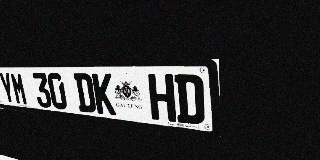0: (46, 73, 68, 110)
3: (32, 73, 52, 108)
D: (174, 74, 205, 125), (73, 73, 97, 113)
H: (148, 74, 176, 122)
K: (92, 73, 116, 115)
M: (10, 72, 29, 106)
Y: (0, 72, 16, 104)
